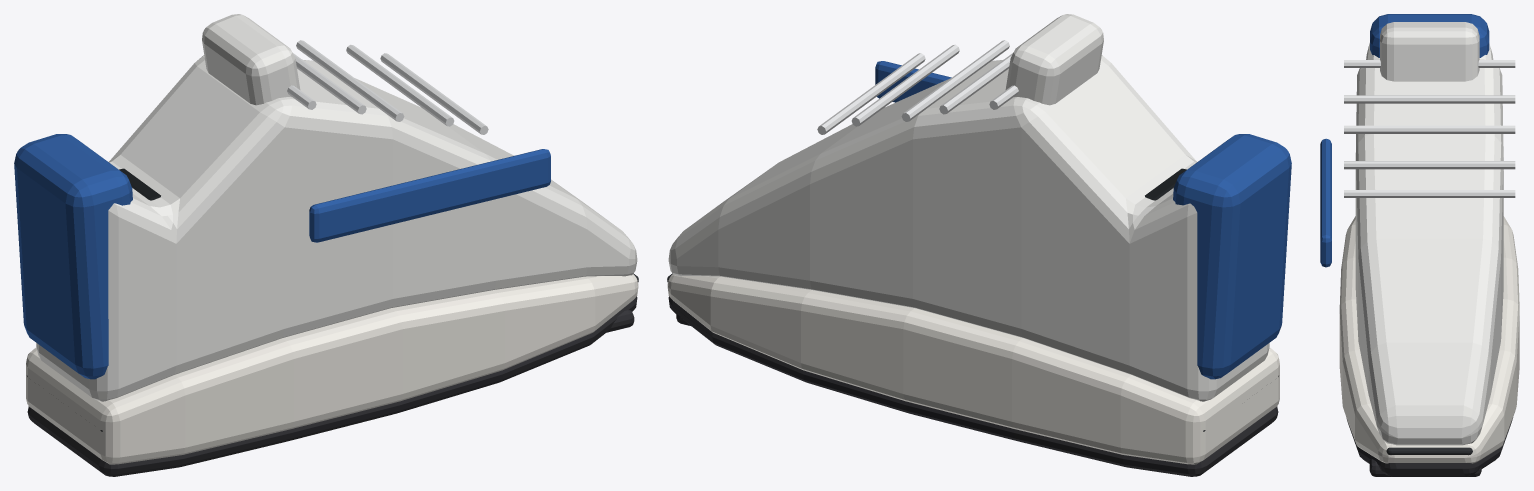
The model's file is nike-vaporfly-4-current.glb.
The picture shows the model from 3 angles, left to right: view 1: azimuth 30°, elevation 25°; view 2: azimuth 150°, elevation 25°; view 3: azimuth 270°, elevation 25°; orthographic projection. The views are drawn at different scales.
Visible parts, largest first — view 1: nike-vaporfly-4-current_UPPER, nike-vaporfly-4-current_MIDSOLE, nike-vaporfly-4-current_HEEL_COUNTER, nike-vaporfly-4-current_MUSEUM_ID_PANEL, nike-vaporfly-4-current_OUTSOLE, nike-vaporfly-4-current_TONGUE, nike-vaporfly-4-current; view 2: nike-vaporfly-4-current_UPPER, nike-vaporfly-4-current_MIDSOLE, nike-vaporfly-4-current_HEEL_COUNTER, nike-vaporfly-4-current_OUTSOLE, nike-vaporfly-4-current_TONGUE, nike-vaporfly-4-current, nike-vaporfly-4-current_MUSEUM_ID_PANEL; view 3: nike-vaporfly-4-current_UPPER, nike-vaporfly-4-current_MIDSOLE, nike-vaporfly-4-current, nike-vaporfly-4-current_TONGUE, nike-vaporfly-4-current_OUTSOLE, nike-vaporfly-4-current_HEEL_COUNTER, nike-vaporfly-4-current_MUSEUM_ID_PANEL, nike-vaporfly-4-current_CARBON_FLYPLATE.
Part boxes in pixels (<box>): nike-vaporfly-4-current_UPPER: <box>36,55,637,401</box>; nike-vaporfly-4-current_MIDSOLE: <box>26,274,638,464</box>; nike-vaporfly-4-current_HEEL_COUNTER: <box>14,134,132,379</box>; nike-vaporfly-4-current_MUSEUM_ID_PANEL: <box>309,149,550,242</box>; nike-vaporfly-4-current_OUTSOLE: <box>27,296,637,476</box>; nike-vaporfly-4-current_TONGUE: <box>202,14,300,105</box>; nike-vaporfly-4-current: <box>287,40,634,332</box>; nike-vaporfly-4-current_UPPER: <box>668,55,1269,401</box>; nike-vaporfly-4-current_MIDSOLE: <box>667,274,1279,464</box>; nike-vaporfly-4-current_HEEL_COUNTER: <box>1173,134,1291,379</box>; nike-vaporfly-4-current_OUTSOLE: <box>668,296,1278,476</box>; nike-vaporfly-4-current_TONGUE: <box>1005,14,1103,105</box>; nike-vaporfly-4-current: <box>676,40,1018,325</box>; nike-vaporfly-4-current_MUSEUM_ID_PANEL: <box>875,61,951,102</box>; nike-vaporfly-4-current_UPPER: <box>1355,43,1503,445</box>; nike-vaporfly-4-current_MIDSOLE: <box>1339,216,1519,463</box>; nike-vaporfly-4-current: <box>1344,60,1515,476</box>; nike-vaporfly-4-current_TONGUE: <box>1380,22,1479,81</box>; nike-vaporfly-4-current_OUTSOLE: <box>1346,417,1513,476</box>; nike-vaporfly-4-current_HEEL_COUNTER: <box>1370,14,1489,57</box>; nike-vaporfly-4-current_MUSEUM_ID_PANEL: <box>1320,138,1331,267</box>; nike-vaporfly-4-current_CARBON_FLYPLATE: <box>1386,447,1472,455</box>.
Bounding box in the file's own units: 0.2869 × 0.1798 × 0.1002.
